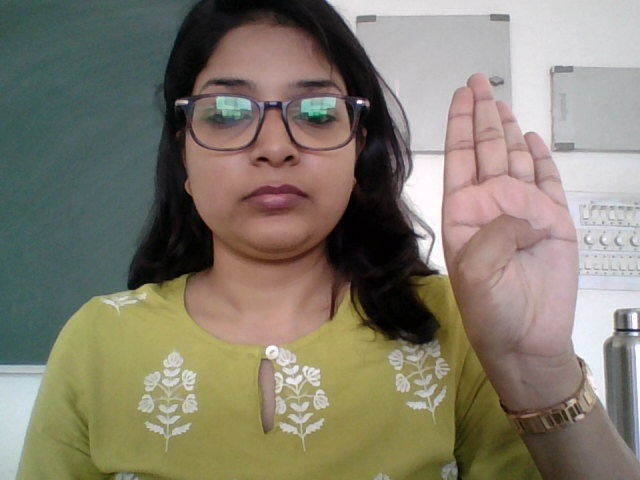B: (437, 72, 610, 392)
